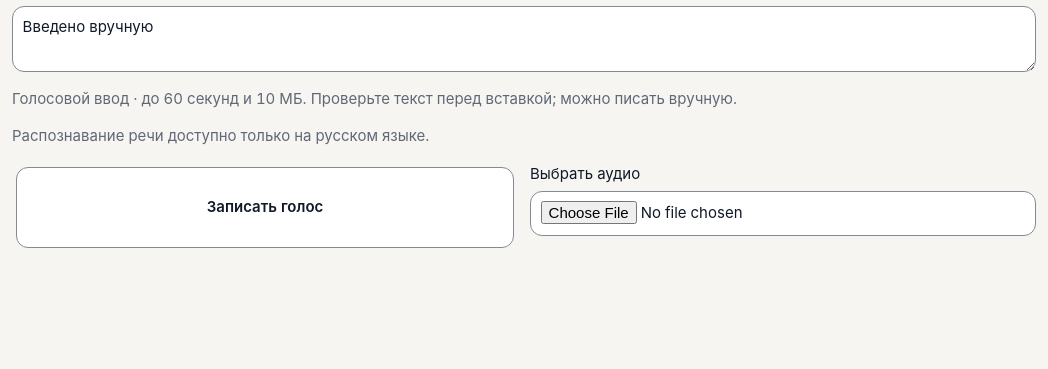
Scenario: handles denied microphone and permits file fallback
The image size is (1048, 369).
Later steps or results of the test are not shown.
Click the button "Записать голос". click: (265, 207)
box: [16,167,514,248]
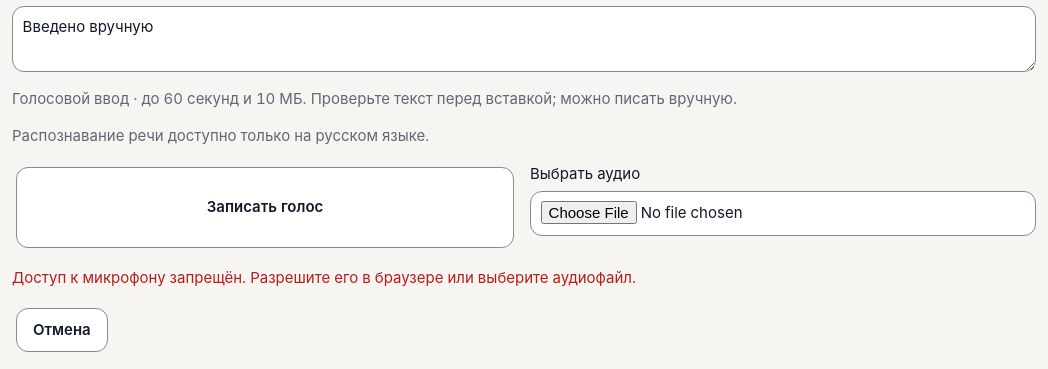
Expected: the file field labelled "Выбрать аудио" is shown, [530,191,1036,236]
Expected: the message "Доступ к микрофону запрещён. Разрешите его в браузере или выберите аудиофайл." is shown, [12,268,636,287]
